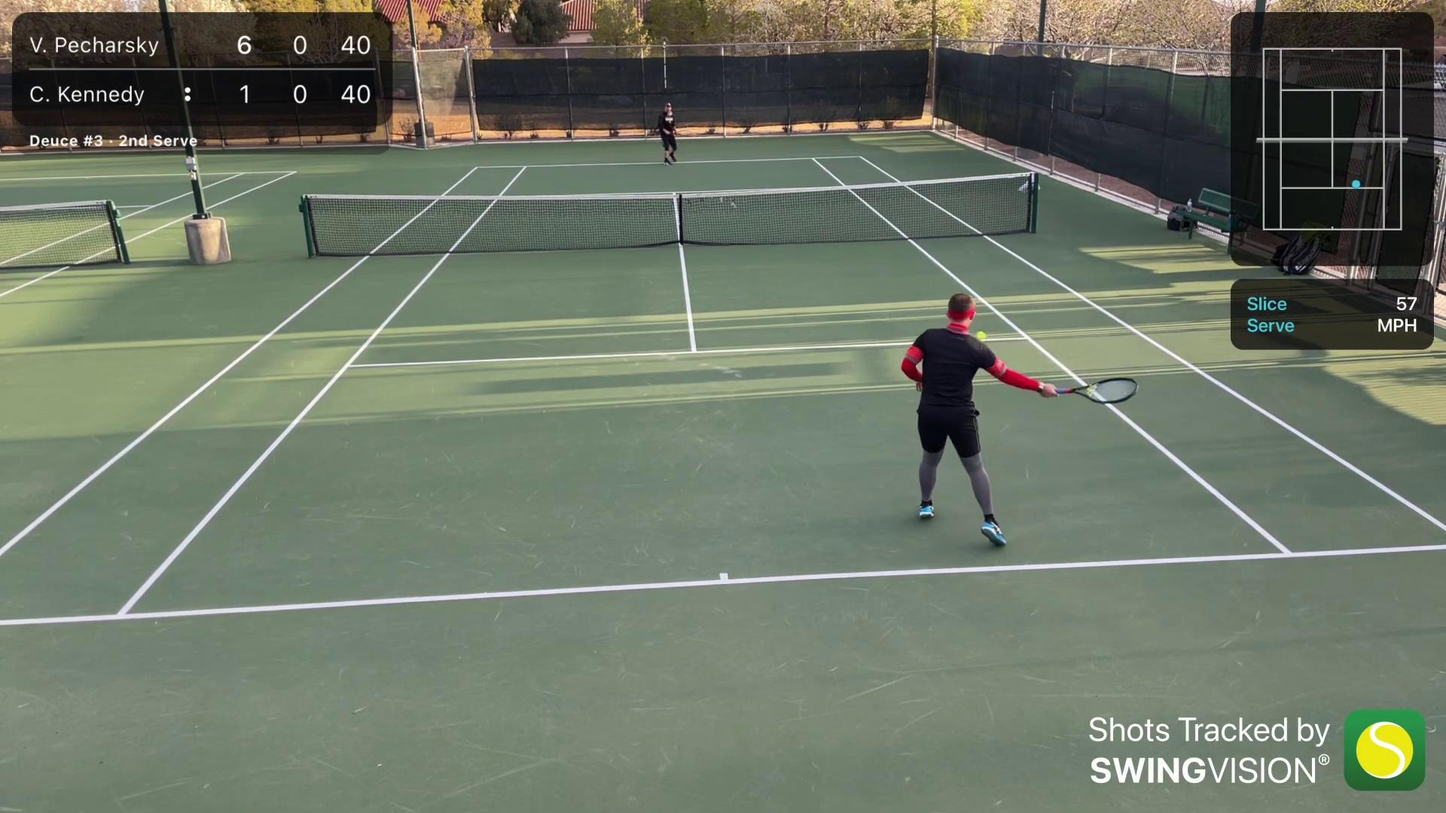ball: (975, 328, 988, 341)
